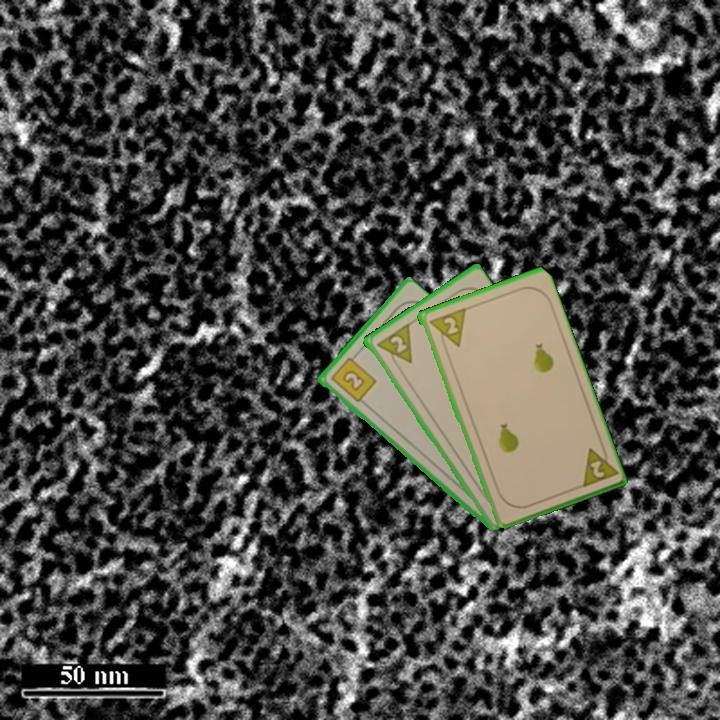2b: (327, 350, 379, 405)
2p: (372, 320, 415, 373), (424, 304, 468, 353), (586, 456, 607, 481)
